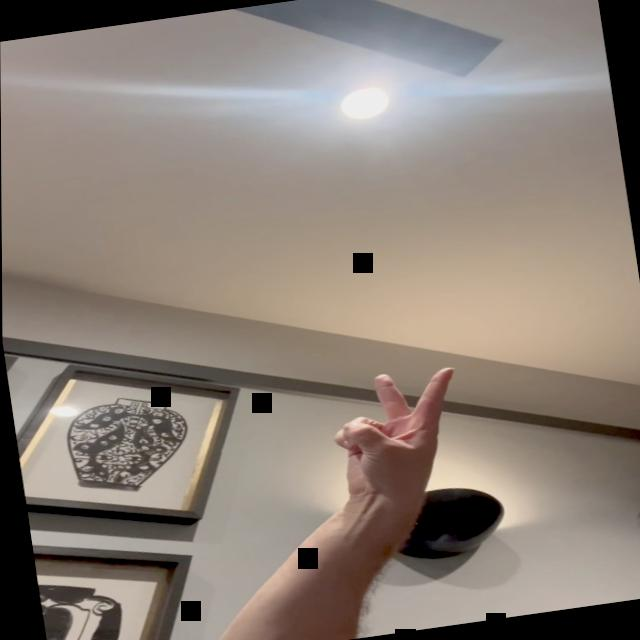Scissors: (325, 361, 472, 510)
